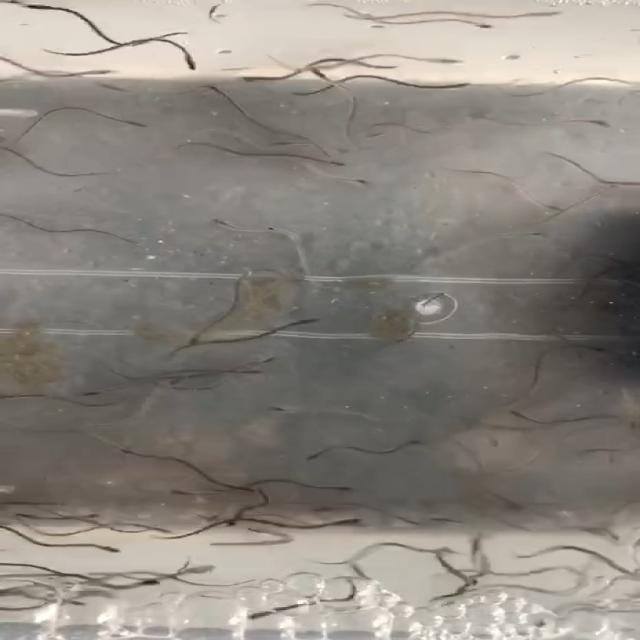active_glass_eel: (564, 338, 618, 362), (19, 3, 84, 21), (300, 65, 342, 89), (430, 520, 479, 540), (523, 6, 584, 22), (349, 59, 414, 74), (2, 502, 56, 520), (112, 117, 158, 138), (577, 114, 625, 134), (283, 313, 331, 333), (302, 448, 351, 467), (422, 53, 476, 70), (359, 126, 403, 146), (508, 228, 556, 246), (120, 442, 162, 462), (598, 178, 634, 201), (226, 65, 260, 89), (206, 212, 243, 234), (175, 330, 213, 351), (458, 571, 495, 592), (256, 398, 295, 417), (439, 76, 480, 94), (503, 401, 543, 418), (579, 440, 610, 461), (503, 497, 537, 516), (167, 59, 211, 73), (401, 436, 437, 453), (393, 555, 431, 570), (322, 154, 353, 172), (531, 200, 565, 216), (78, 66, 122, 78), (105, 542, 138, 558), (421, 509, 454, 525), (57, 595, 97, 608), (76, 387, 114, 400), (188, 563, 218, 579), (607, 528, 631, 548), (352, 175, 376, 194), (240, 365, 268, 381), (456, 20, 500, 30), (267, 134, 298, 148), (222, 516, 248, 532), (204, 80, 228, 97), (102, 83, 135, 95), (160, 483, 188, 497), (427, 545, 457, 558), (141, 527, 176, 538), (0, 389, 27, 403), (133, 571, 162, 584), (611, 164, 633, 181), (143, 590, 173, 602), (332, 515, 359, 528), (0, 457, 29, 469), (252, 353, 275, 367), (248, 527, 274, 539), (147, 582, 177, 592), (244, 609, 265, 623), (358, 569, 379, 582), (332, 484, 356, 495), (79, 510, 106, 519)
